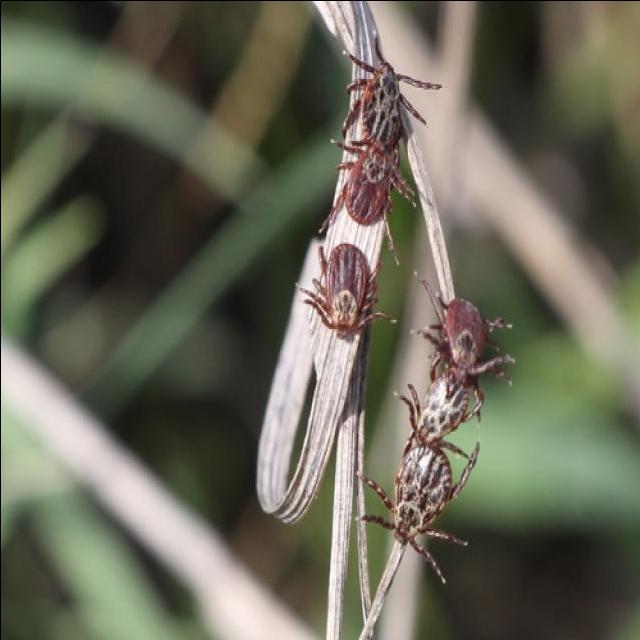Dermacentor Reticulatus-F: (297, 243, 396, 340)
Dermacentor Reticulatus-M: (360, 429, 479, 585)
